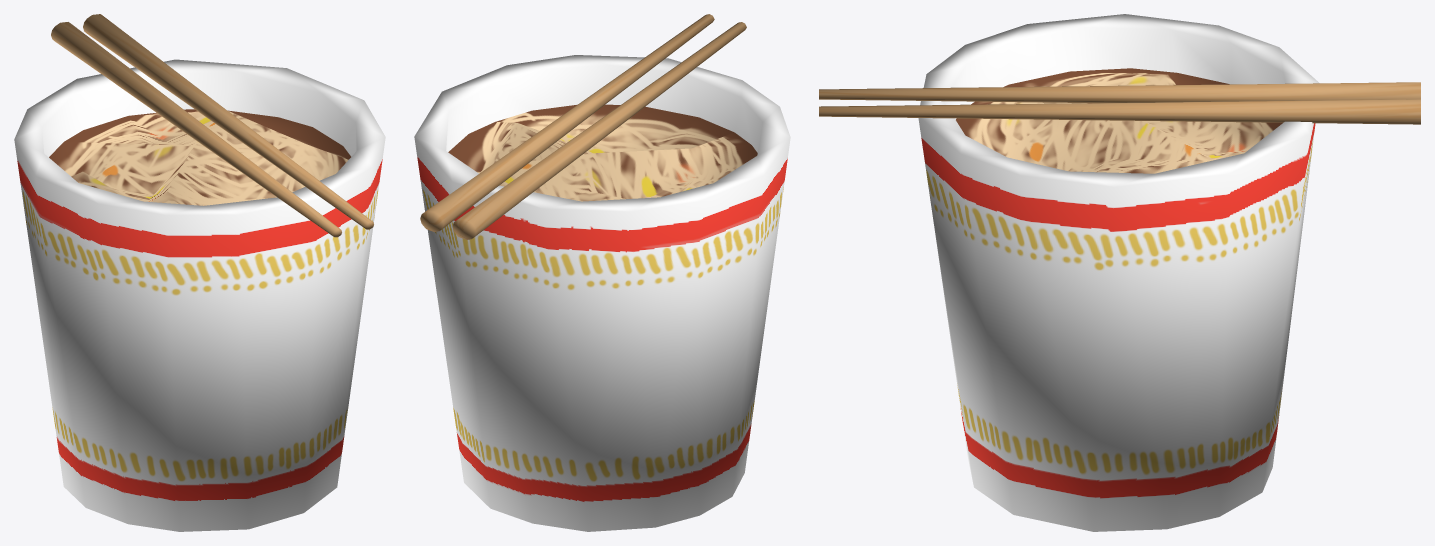
File: instant_noodles.gltf
The picture shows the model from 3 angles, left to right: view 1: azimuth 30°, elevation 25°; view 2: azimuth 150°, elevation 25°; view 3: azimuth 270°, elevation 25°; orthographic projection. The views are drawn at different scales.
Visible parts, largest first — view 1: Cylinder.002; view 2: Cylinder.002; view 3: Cylinder.002.
Part boxes in pixels (bbox=[...]): Cylinder.002: bbox=[14, 14, 385, 531]; Cylinder.002: bbox=[414, 14, 790, 531]; Cylinder.002: bbox=[819, 14, 1420, 531].
Bounding box in the file's own units: 1.01 × 1.05 × 1.49.
1 material, 1 textured.
